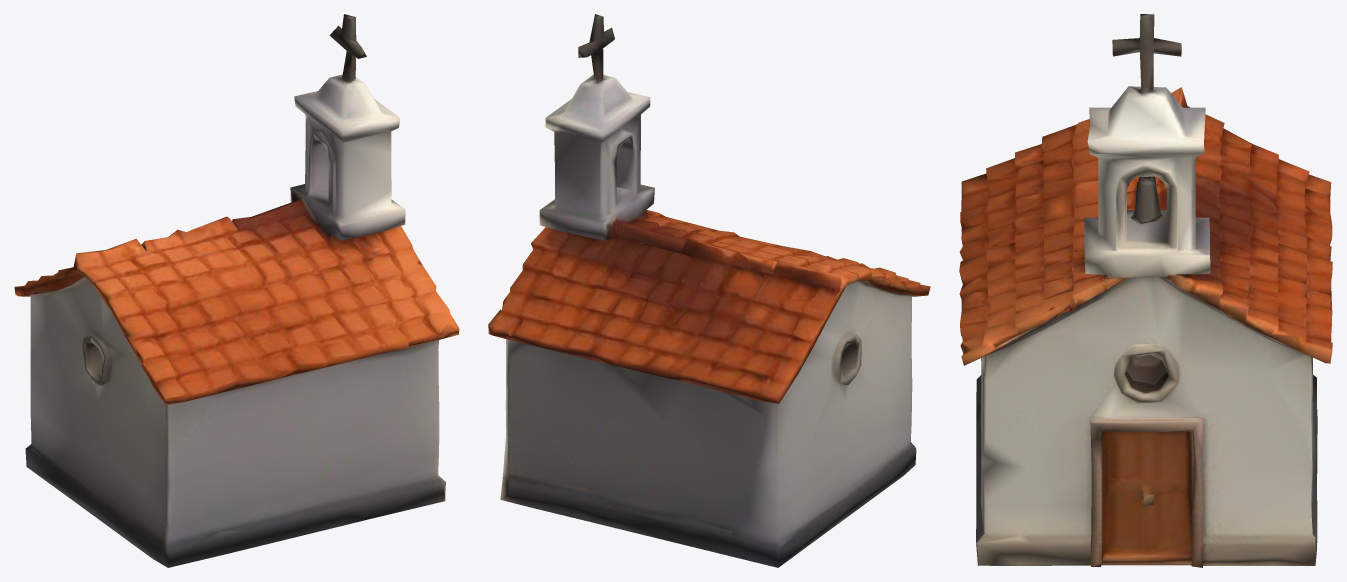
File: igreja.glb
3 views of the same model, side by side, from view 1: azimuth 30°, elevation 25°; view 2: azimuth 150°, elevation 25°; view 3: azimuth 270°, elevation 25° (orthographic). The views are drawn at different scales.
Parts seen in each view (by area): view 1: tripo_node_ddc1b627-4884-414b-9198-8075c3ae9a43; view 2: tripo_node_ddc1b627-4884-414b-9198-8075c3ae9a43; view 3: tripo_node_ddc1b627-4884-414b-9198-8075c3ae9a43.
Part boxes in pixels (<box>): tripo_node_ddc1b627-4884-414b-9198-8075c3ae9a43: <box>14,14,459,567</box>; tripo_node_ddc1b627-4884-414b-9198-8075c3ae9a43: <box>488,14,930,567</box>; tripo_node_ddc1b627-4884-414b-9198-8075c3ae9a43: <box>959,14,1332,567</box>.
Bounding box in the file's own units: 0.7004 × 1 × 0.6331.
1 material, 1 textured.
